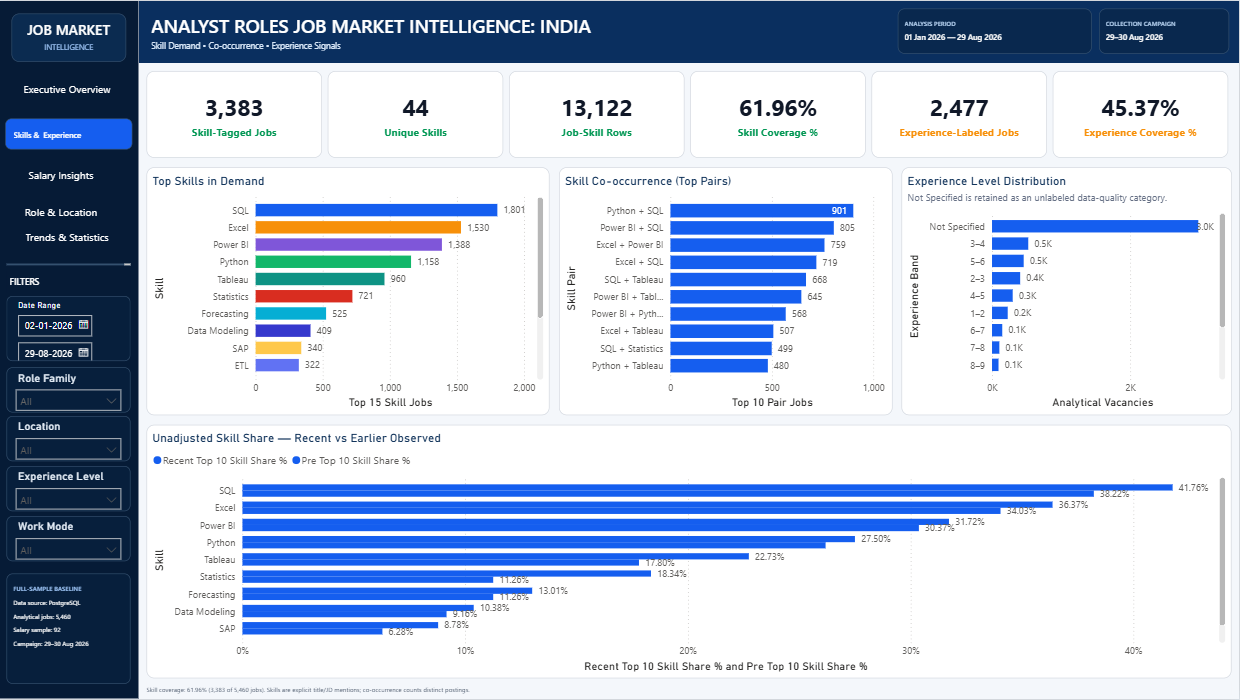

The page's visual inventory and layout, read from the dashboard file:
{"tool":"powerbi","page":{"name":"Skills & Experience","canvas":[1600,900],"ordinal":1},"visuals":[{"type":"textbox","box":[0,0,180,900],"z":0},{"type":"textbox","box":[16,16,148,62],"z":1000},{"type":"textbox","box":[8,151,164,40],"z":2000},{"type":"textbox","box":[10,338,160,2],"z":3000},{"type":"textbox","box":[10,348,160,28],"z":4000},{"type":"slicer","fields":{"Values":["Jobs.Posted Date"]},"box":[10,380,160,84],"z":5000},{"type":"slicer","fields":{"Values":["Jobs.Role Family"]},"box":[10,472,160,58],"z":6000},{"type":"slicer","fields":{"Values":["Jobs.Specific City"]},"box":[10,536,160,58],"z":7000},{"type":"slicer","fields":{"Values":["Jobs.Experience Band"]},"box":[10,600,160,58],"z":8000},{"type":"slicer","fields":{"Values":["Jobs.Work Mode"]},"box":[10,664,160,58],"z":9000},{"type":"textbox","box":[10,738,160,142],"z":10000},{"type":"textbox","box":[180,0,1420,80],"z":11000},{"type":"textbox","box":[1160,10,250,58],"z":12000},{"type":"textbox","box":[1420,10,168,58],"z":13000},{"type":"barChart","title":"Top Skills in Demand","fields":{"Category":["Skills.Skill"],"Y":["Skills.Top 15 Skill Jobs"]},"box":[190,215,520,320],"z":14000},{"type":"barChart","title":"Skill Co-occurrence (Top Pairs)","fields":{"Category":["SkillPairs.Skill Pair"],"Y":["SkillPairs.Top 10 Pair Jobs"]},"box":[722,215,430,320],"z":15000},{"type":"barChart","title":"Experience Level Distribution","fields":{"Category":["Jobs.Experience Band"],"Y":["Jobs.Analytical Vacancies"]},"box":[1164,215,426,320],"z":16000},{"type":"clusteredBarChart","title":"Unadjusted Skill Share — Recent vs Earlier Observed","fields":{"Category":["Skills.Skill"],"Y":["Skills.Recent Top 10 Skill Share %","Skills.Pre Top 10 Skill Share %"]},"box":[190,547,1400,327],"z":17000},{"type":"textbox","box":[190,878,1400,18],"z":18000},{"type":"actionButton","box":[0,96,176,32],"z":19000},{"type":"actionButton","box":[0,208,160,32],"z":20000},{"type":"actionButton","box":[0,256,160,32],"z":21000},{"type":"actionButton","box":[0,288,176,32],"z":22000},{"type":"card","fields":{"Values":["Jobs.Skill-Tagged Jobs"]},"box":[190,90,226,112],"z":23000},{"type":"card","fields":{"Values":["Skills.Unique Skills"]},"box":[424,90,226,112],"z":24000},{"type":"card","fields":{"Values":["Skills.Job-Skill Rows"]},"box":[658,90,226,112],"z":25000},{"type":"card","fields":{"Values":["Jobs.Skill Coverage %"]},"box":[892,90,226,112],"z":26000},{"type":"card","fields":{"Values":["Jobs.Experience-Labeled Jobs"]},"box":[1126,90,226,112],"z":27000},{"type":"card","fields":{"Values":["Jobs.Experience Coverage %"]},"box":[1360,90,226,112],"z":28000}]}

Visuals, with their boxes on the page's 1600x900 design canvas (x1, y1, x2, y2). These are canvas units, not pixel positions in the 1240x700 screenshot, which may show the page scaled, cropped or inside an application window:
textbox: (x1=0, y1=0, x2=180, y2=900)
textbox: (x1=16, y1=16, x2=164, y2=78)
textbox: (x1=8, y1=151, x2=172, y2=191)
textbox: (x1=10, y1=338, x2=170, y2=340)
textbox: (x1=10, y1=348, x2=170, y2=376)
slicer - Jobs.Posted Date: (x1=10, y1=380, x2=170, y2=464)
slicer - Jobs.Role Family: (x1=10, y1=472, x2=170, y2=530)
slicer - Jobs.Specific City: (x1=10, y1=536, x2=170, y2=594)
slicer - Jobs.Experience Band: (x1=10, y1=600, x2=170, y2=658)
slicer - Jobs.Work Mode: (x1=10, y1=664, x2=170, y2=722)
textbox: (x1=10, y1=738, x2=170, y2=880)
textbox: (x1=180, y1=0, x2=1600, y2=80)
textbox: (x1=1160, y1=10, x2=1410, y2=68)
textbox: (x1=1420, y1=10, x2=1588, y2=68)
"Top Skills in Demand" barChart: (x1=190, y1=215, x2=710, y2=535)
"Skill Co-occurrence (Top Pairs)" barChart: (x1=722, y1=215, x2=1152, y2=535)
"Experience Level Distribution" barChart: (x1=1164, y1=215, x2=1590, y2=535)
"Unadjusted Skill Share — Recent vs Earlier Observed" clusteredBarChart: (x1=190, y1=547, x2=1590, y2=874)
textbox: (x1=190, y1=878, x2=1590, y2=896)
actionButton: (x1=0, y1=96, x2=176, y2=128)
actionButton: (x1=0, y1=208, x2=160, y2=240)
actionButton: (x1=0, y1=256, x2=160, y2=288)
actionButton: (x1=0, y1=288, x2=176, y2=320)
card - Jobs.Skill-Tagged Jobs: (x1=190, y1=90, x2=416, y2=202)
card - Skills.Unique Skills: (x1=424, y1=90, x2=650, y2=202)
card - Skills.Job-Skill Rows: (x1=658, y1=90, x2=884, y2=202)
card - Jobs.Skill Coverage %: (x1=892, y1=90, x2=1118, y2=202)
card - Jobs.Experience-Labeled Jobs: (x1=1126, y1=90, x2=1352, y2=202)
card - Jobs.Experience Coverage %: (x1=1360, y1=90, x2=1586, y2=202)
